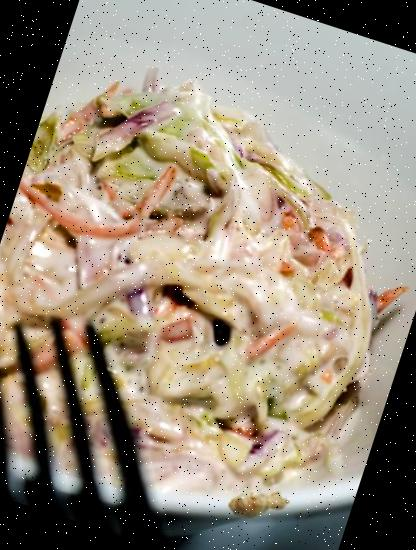Ginger: (219, 464, 298, 543)
